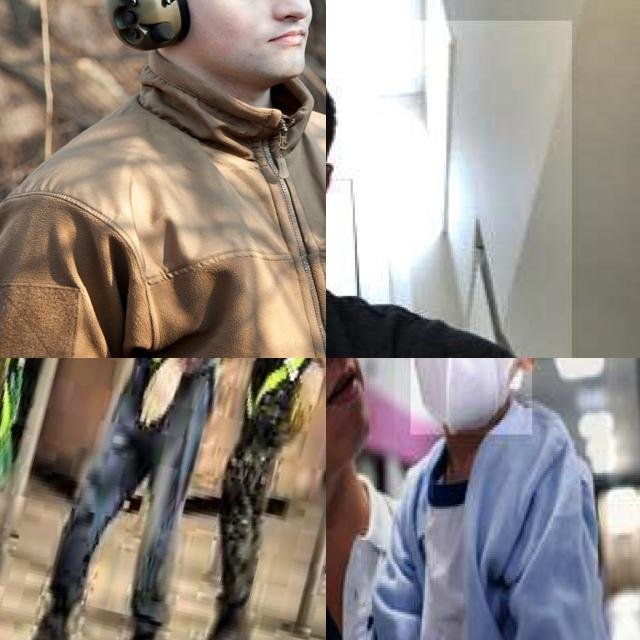Ear-protection: (98, 0, 326, 99)
Harness: (257, 358, 309, 402)
face_mask: (410, 358, 532, 434)
person: (326, 20, 574, 358), (366, 358, 609, 640), (326, 358, 396, 640)
